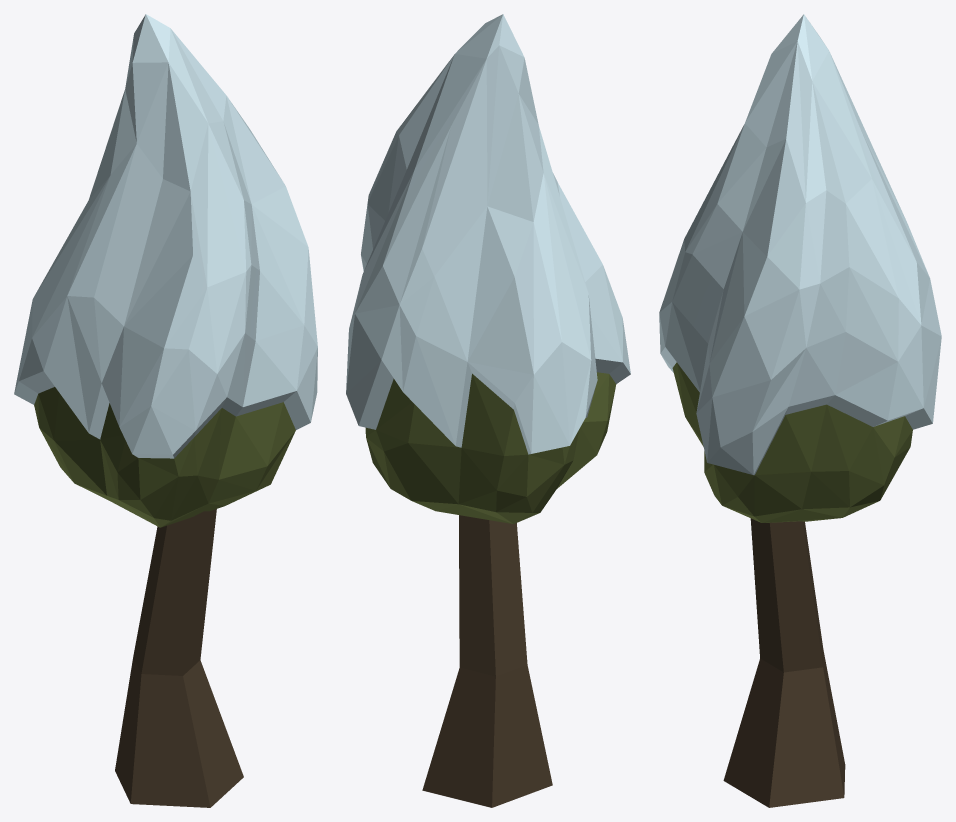
The model's file is SM_Env_Tree_011_Snow.gltf.
3 renders of one model, left to right at view 1: azimuth 30°, elevation 25°; view 2: azimuth 150°, elevation 25°; view 3: azimuth 270°, elevation 25°, orthographic. The views are drawn at different scales.
Visible parts, largest first — view 1: SM_Env_Tree_011_Snow; view 2: SM_Env_Tree_011_Snow; view 3: SM_Env_Tree_011_Snow.
Boxes of the visible parts, bbox=[...] form: SM_Env_Tree_011_Snow: bbox=[14, 14, 317, 807]; SM_Env_Tree_011_Snow: bbox=[346, 14, 630, 807]; SM_Env_Tree_011_Snow: bbox=[659, 14, 941, 807].
Size of the model in its own units: 1.77 by 5.16 by 1.75.
Materials: 1 (1 with a texture image).
